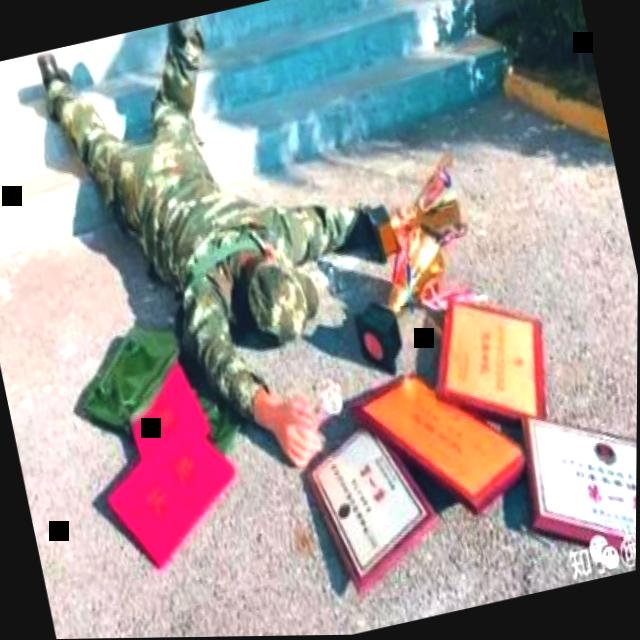Fall-Detected: (3, 0, 493, 511)
